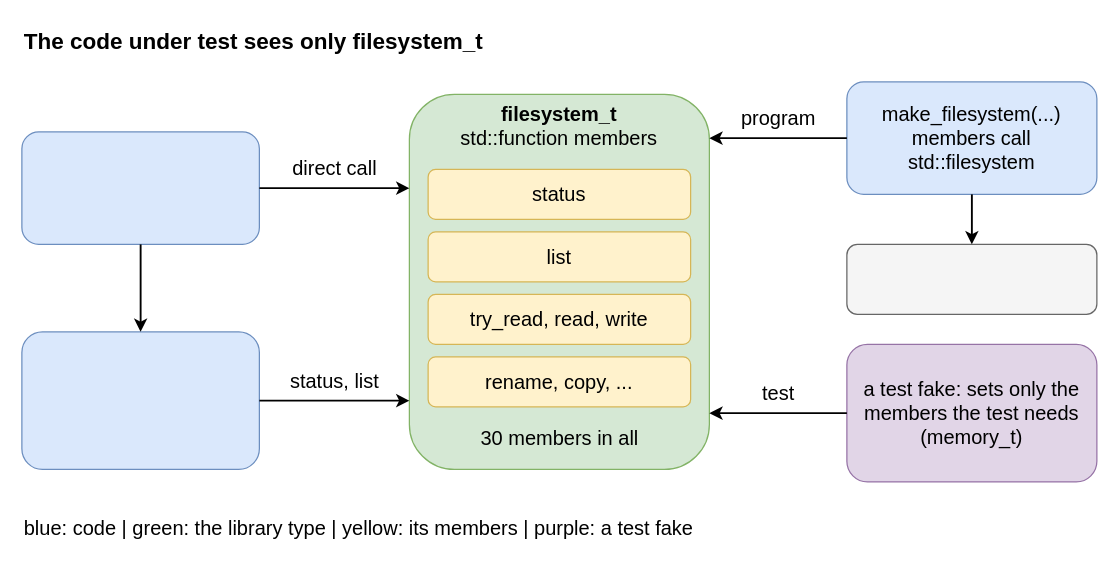
Image size: 1119x568. Some labels were removed from this diagram. The centre of each missing label's shape, as x and y in pixels:
"code under test has_config, source_files" goes at (x=140, y=187).
"queries (free functions) exists, is_directory, is_empty, relative, ..." goes at (x=140, y=400).
"std::filesystem, the disk" goes at (x=971, y=278).
